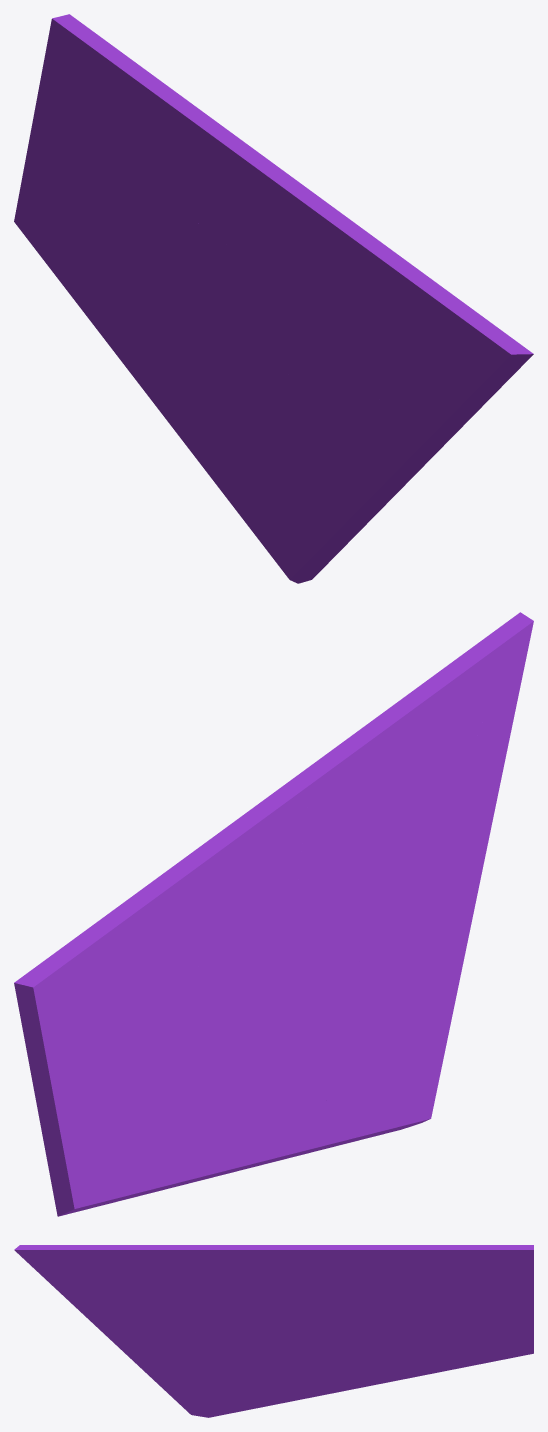
The model's file is Window_1_17_chunks.fbx.
The picture shows the model from 3 angles, top to bottom: view 1: azimuth 30°, elevation 25°; view 2: azimuth 150°, elevation 25°; view 3: azimuth 270°, elevation 25°; orthographic projection. The views are drawn at different scales.
Parts seen in each view (by area): view 1: Window_1_17_6, Window_1_17_10, Window_1_17_8, Window_1_17_3, Window_1_17_9, Window_1_17_14, Window_1_17_7, Window_1_17_15, Window_1_17_4, Window_1_17_13, Window_1_17_1, Window_1_17_12 (+2 smaller); view 2: Window_1_17_6, Window_1_17_8, Window_1_17_10, Window_1_17_3, Window_1_17_9, Window_1_17_14, Window_1_17_7, Window_1_17_15, Window_1_17_4, Window_1_17_13, Window_1_17_1, Window_1_17_12 (+2 smaller); view 3: Window_1_17_6, Window_1_17_10, Window_1_17_3, Window_1_17_14, Window_1_17_9, Window_1_17_8, Window_1_17_5, Window_1_17_11, Window_1_17_15, Window_1_17_1, Window_1_17_4, Window_1_17_13 (+4 smaller).
Boxes of the visible parts, bbox=[...] form: Window_1_17_6: bbox=[14, 24, 147, 361]; Window_1_17_10: bbox=[294, 327, 533, 581]; Window_1_17_8: bbox=[285, 268, 496, 439]; Window_1_17_3: bbox=[51, 14, 225, 201]; Window_1_17_9: bbox=[217, 345, 304, 583]; Window_1_17_14: bbox=[267, 173, 415, 320]; Window_1_17_7: bbox=[121, 296, 223, 484]; Window_1_17_15: bbox=[189, 129, 273, 254]; Window_1_17_4: bbox=[106, 126, 215, 323]; Window_1_17_13: bbox=[209, 235, 298, 347]; Window_1_17_1: bbox=[149, 197, 242, 352]; Window_1_17_12: bbox=[242, 161, 305, 258]; Window_1_17_6: bbox=[16, 993, 213, 1216]; Window_1_17_8: bbox=[344, 638, 510, 981]; Window_1_17_10: bbox=[393, 612, 533, 1106]; Window_1_17_3: bbox=[14, 858, 210, 1003]; Window_1_17_9: bbox=[302, 971, 433, 1150]; Window_1_17_14: bbox=[250, 706, 411, 891]; Window_1_17_7: bbox=[204, 1045, 336, 1179]; Window_1_17_15: bbox=[185, 820, 268, 961]; Window_1_17_4: bbox=[117, 999, 278, 1082]; Window_1_17_13: bbox=[248, 885, 345, 991]; Window_1_17_1: bbox=[179, 943, 309, 1011]; Window_1_17_12: bbox=[237, 784, 310, 898]; Window_1_17_6: bbox=[385, 1255, 533, 1380]; Window_1_17_10: bbox=[14, 1245, 210, 1415]; Window_1_17_3: bbox=[358, 1245, 533, 1298]; Window_1_17_14: bbox=[145, 1245, 301, 1306]; Window_1_17_9: bbox=[195, 1334, 295, 1417]; Window_1_17_8: bbox=[44, 1245, 200, 1334]; Window_1_17_5: bbox=[287, 1327, 387, 1402]; Window_1_17_11: bbox=[195, 1281, 289, 1350]; Window_1_17_15: bbox=[301, 1245, 360, 1302]; Window_1_17_1: bbox=[285, 1286, 406, 1331]; Window_1_17_4: bbox=[332, 1283, 453, 1338]; Window_1_17_13: bbox=[245, 1285, 329, 1329].
Bounding box in the file's own units: 125 × 488 × 1239.
